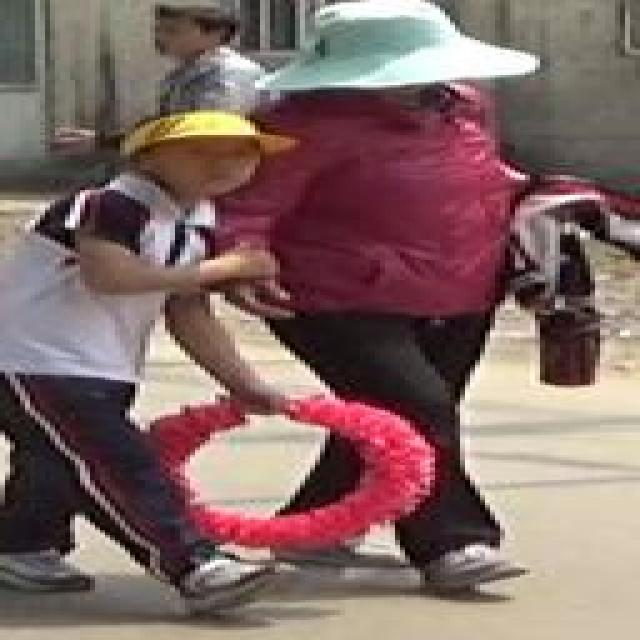adult: (234, 8, 586, 585), (101, 6, 278, 188)
child: (0, 121, 279, 614)
